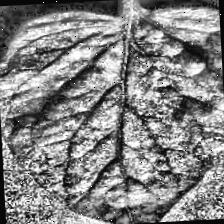spider mites: (0, 2, 224, 224)
